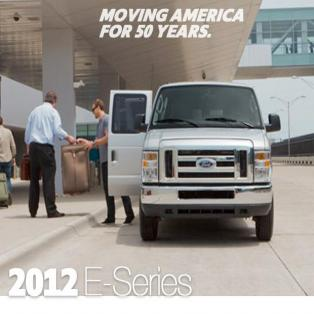Auto: (102, 77, 284, 245)
